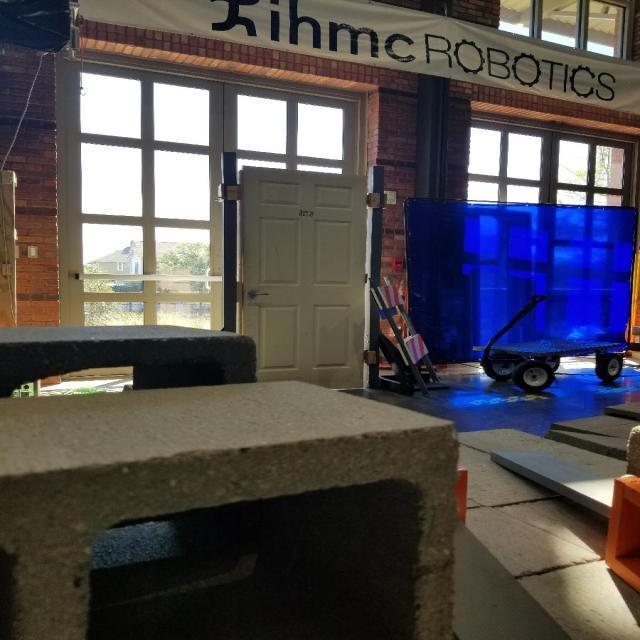door: (238, 162, 370, 397), (244, 290, 272, 300)
